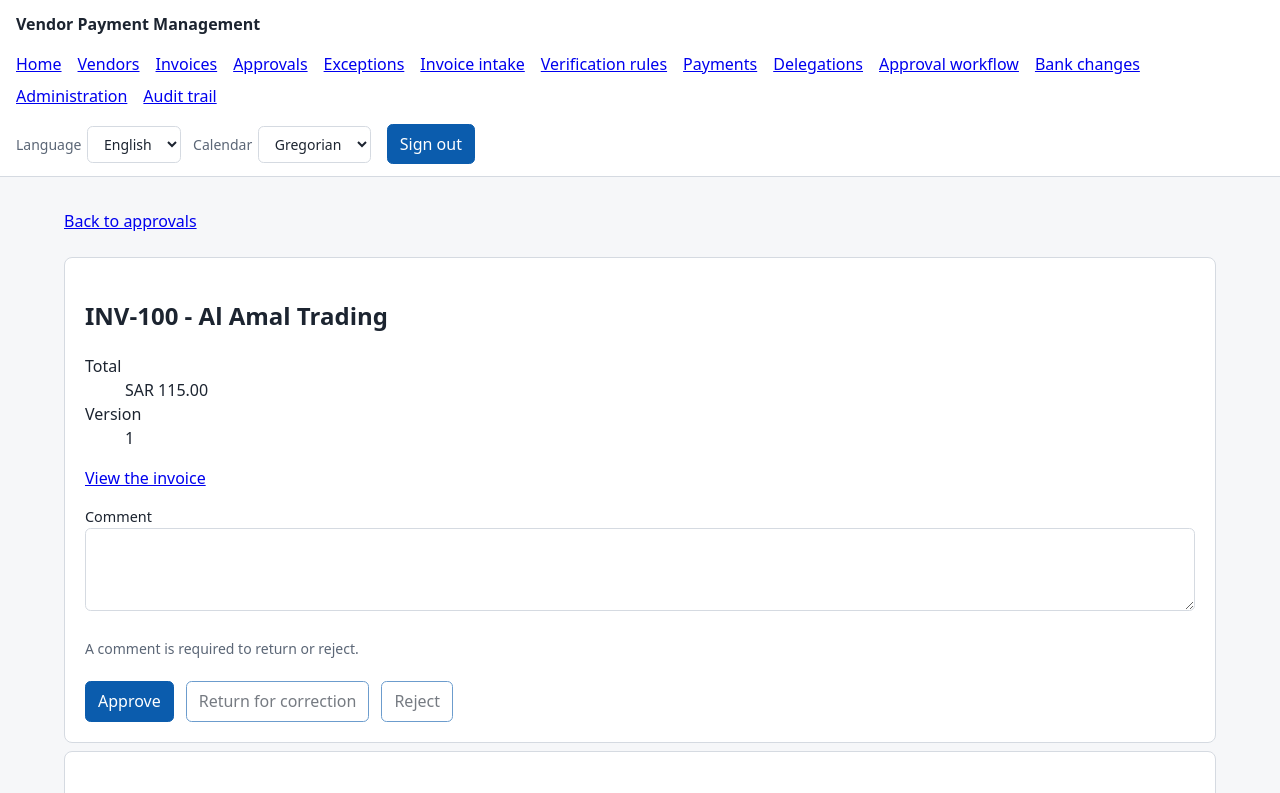
Test: approval task › explains a refused decision with the stable error code, not the server text
Step 1. Click the button "Approve" → coordinates (129, 701), box [85,681,174,722]
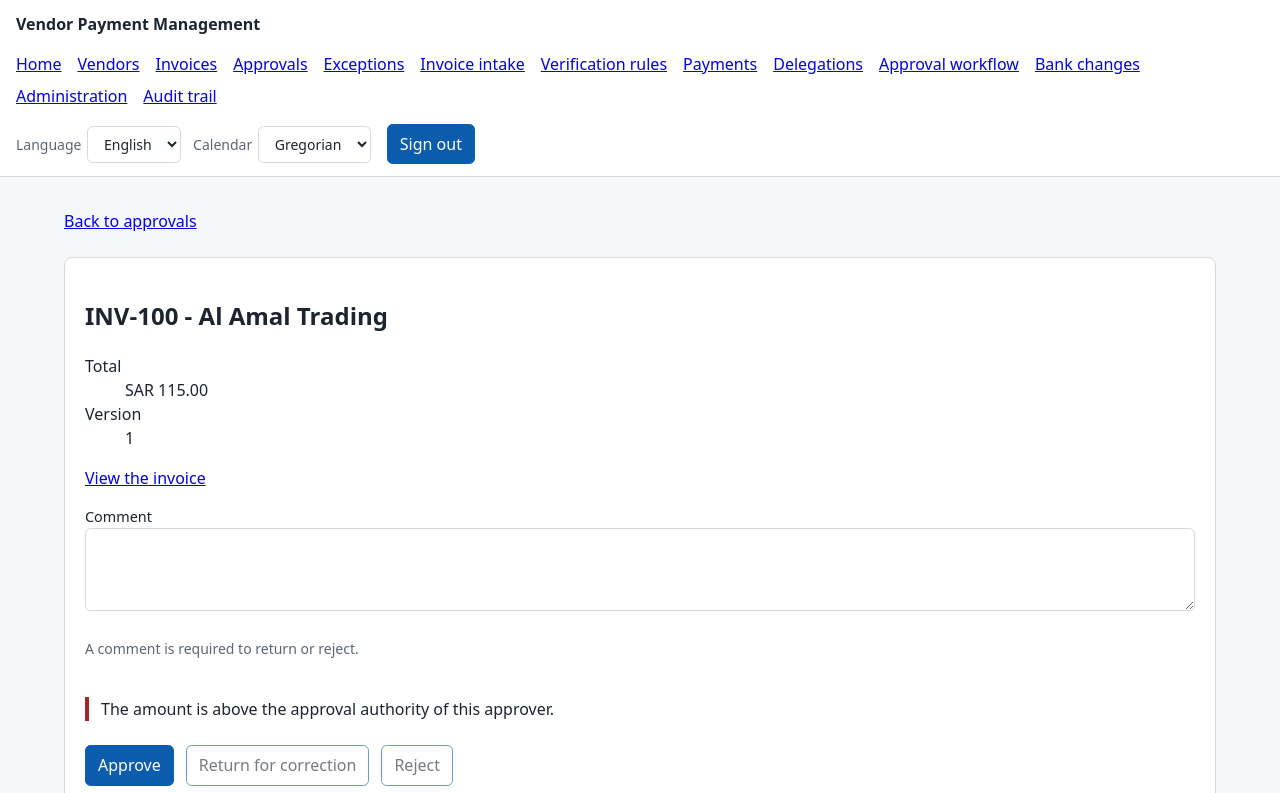
Now the message reads "The amount is above the approval authority of this approver.", box [101,698,554,720]
